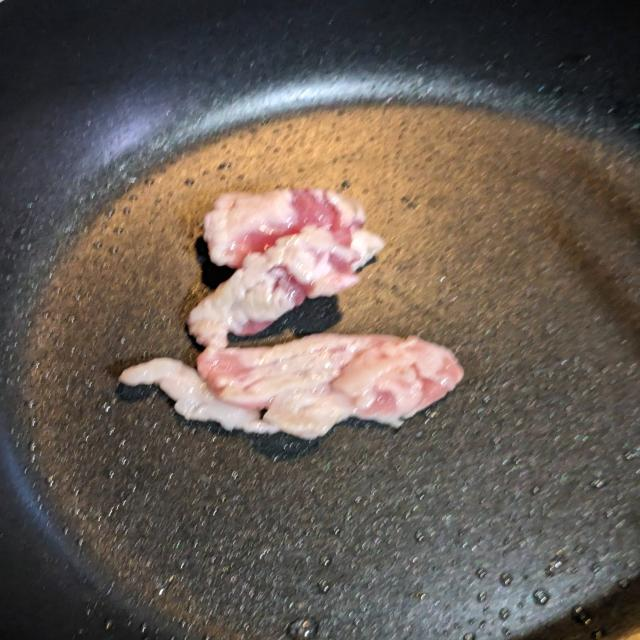NG undercooked pork,: (106, 181, 484, 448)
